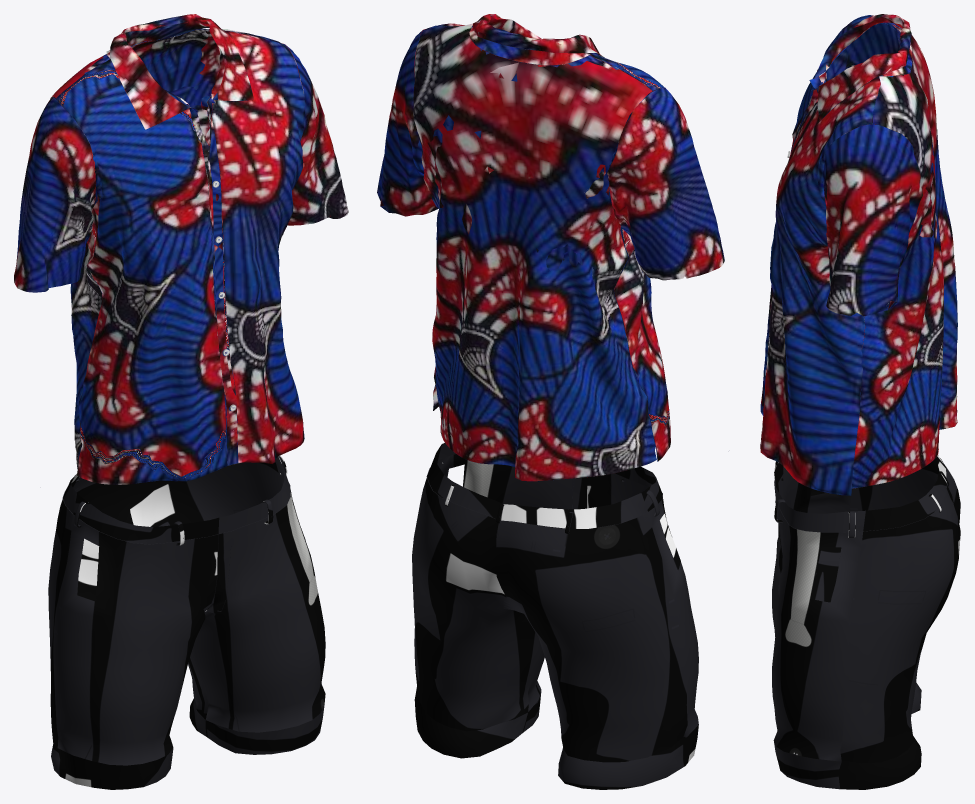
Rendered from short_shirt_and_material_shorts.glb.
The picture shows the model from 3 angles, left to right: view 1: azimuth 30°, elevation 25°; view 2: azimuth 150°, elevation 25°; view 3: azimuth 270°, elevation 25°; orthographic projection. The views are drawn at different scales.
Parts seen in each view (by area): view 1: all, all_two; view 2: all, all_two; view 3: all, all_two.
Boxes of the visible parts, box(x1,y1,x2,y2) form: all: box(14, 14, 348, 484); all_two: box(48, 455, 325, 789); all: box(377, 14, 724, 481); all_two: box(412, 443, 698, 789); all: box(760, 14, 957, 495); all_two: box(772, 455, 960, 789).
Size of the model in its own units: 0.3303 by 0.684 by 0.177.
2 materials, 2 textured.
